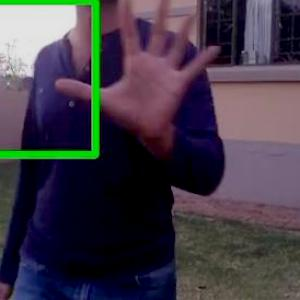follow_hand: (53, 0, 229, 143)
